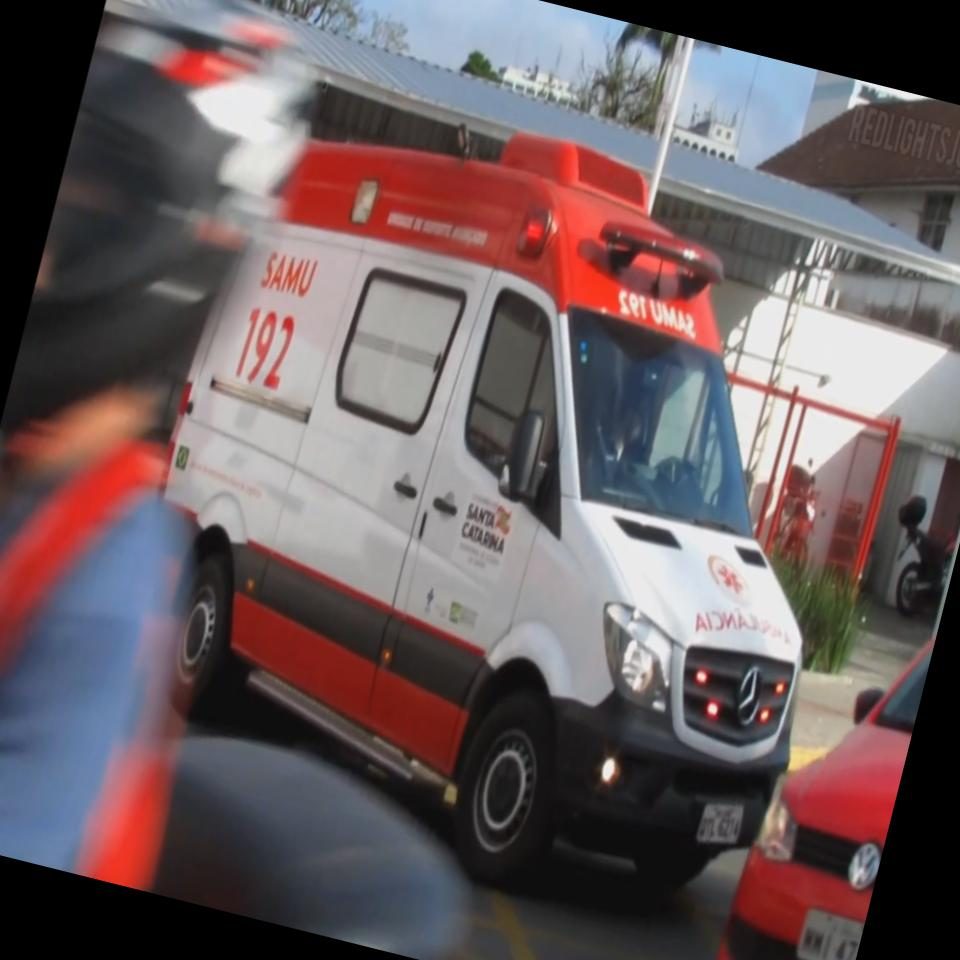bombeiro: (138, 79, 924, 957)
